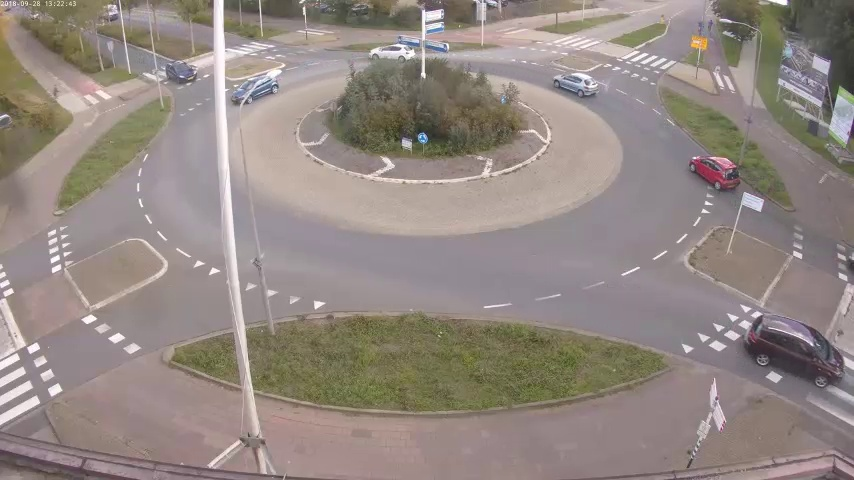car: (741, 313, 847, 394), (689, 154, 741, 192), (230, 73, 277, 106), (554, 71, 600, 99), (370, 41, 417, 67), (164, 60, 201, 86)
